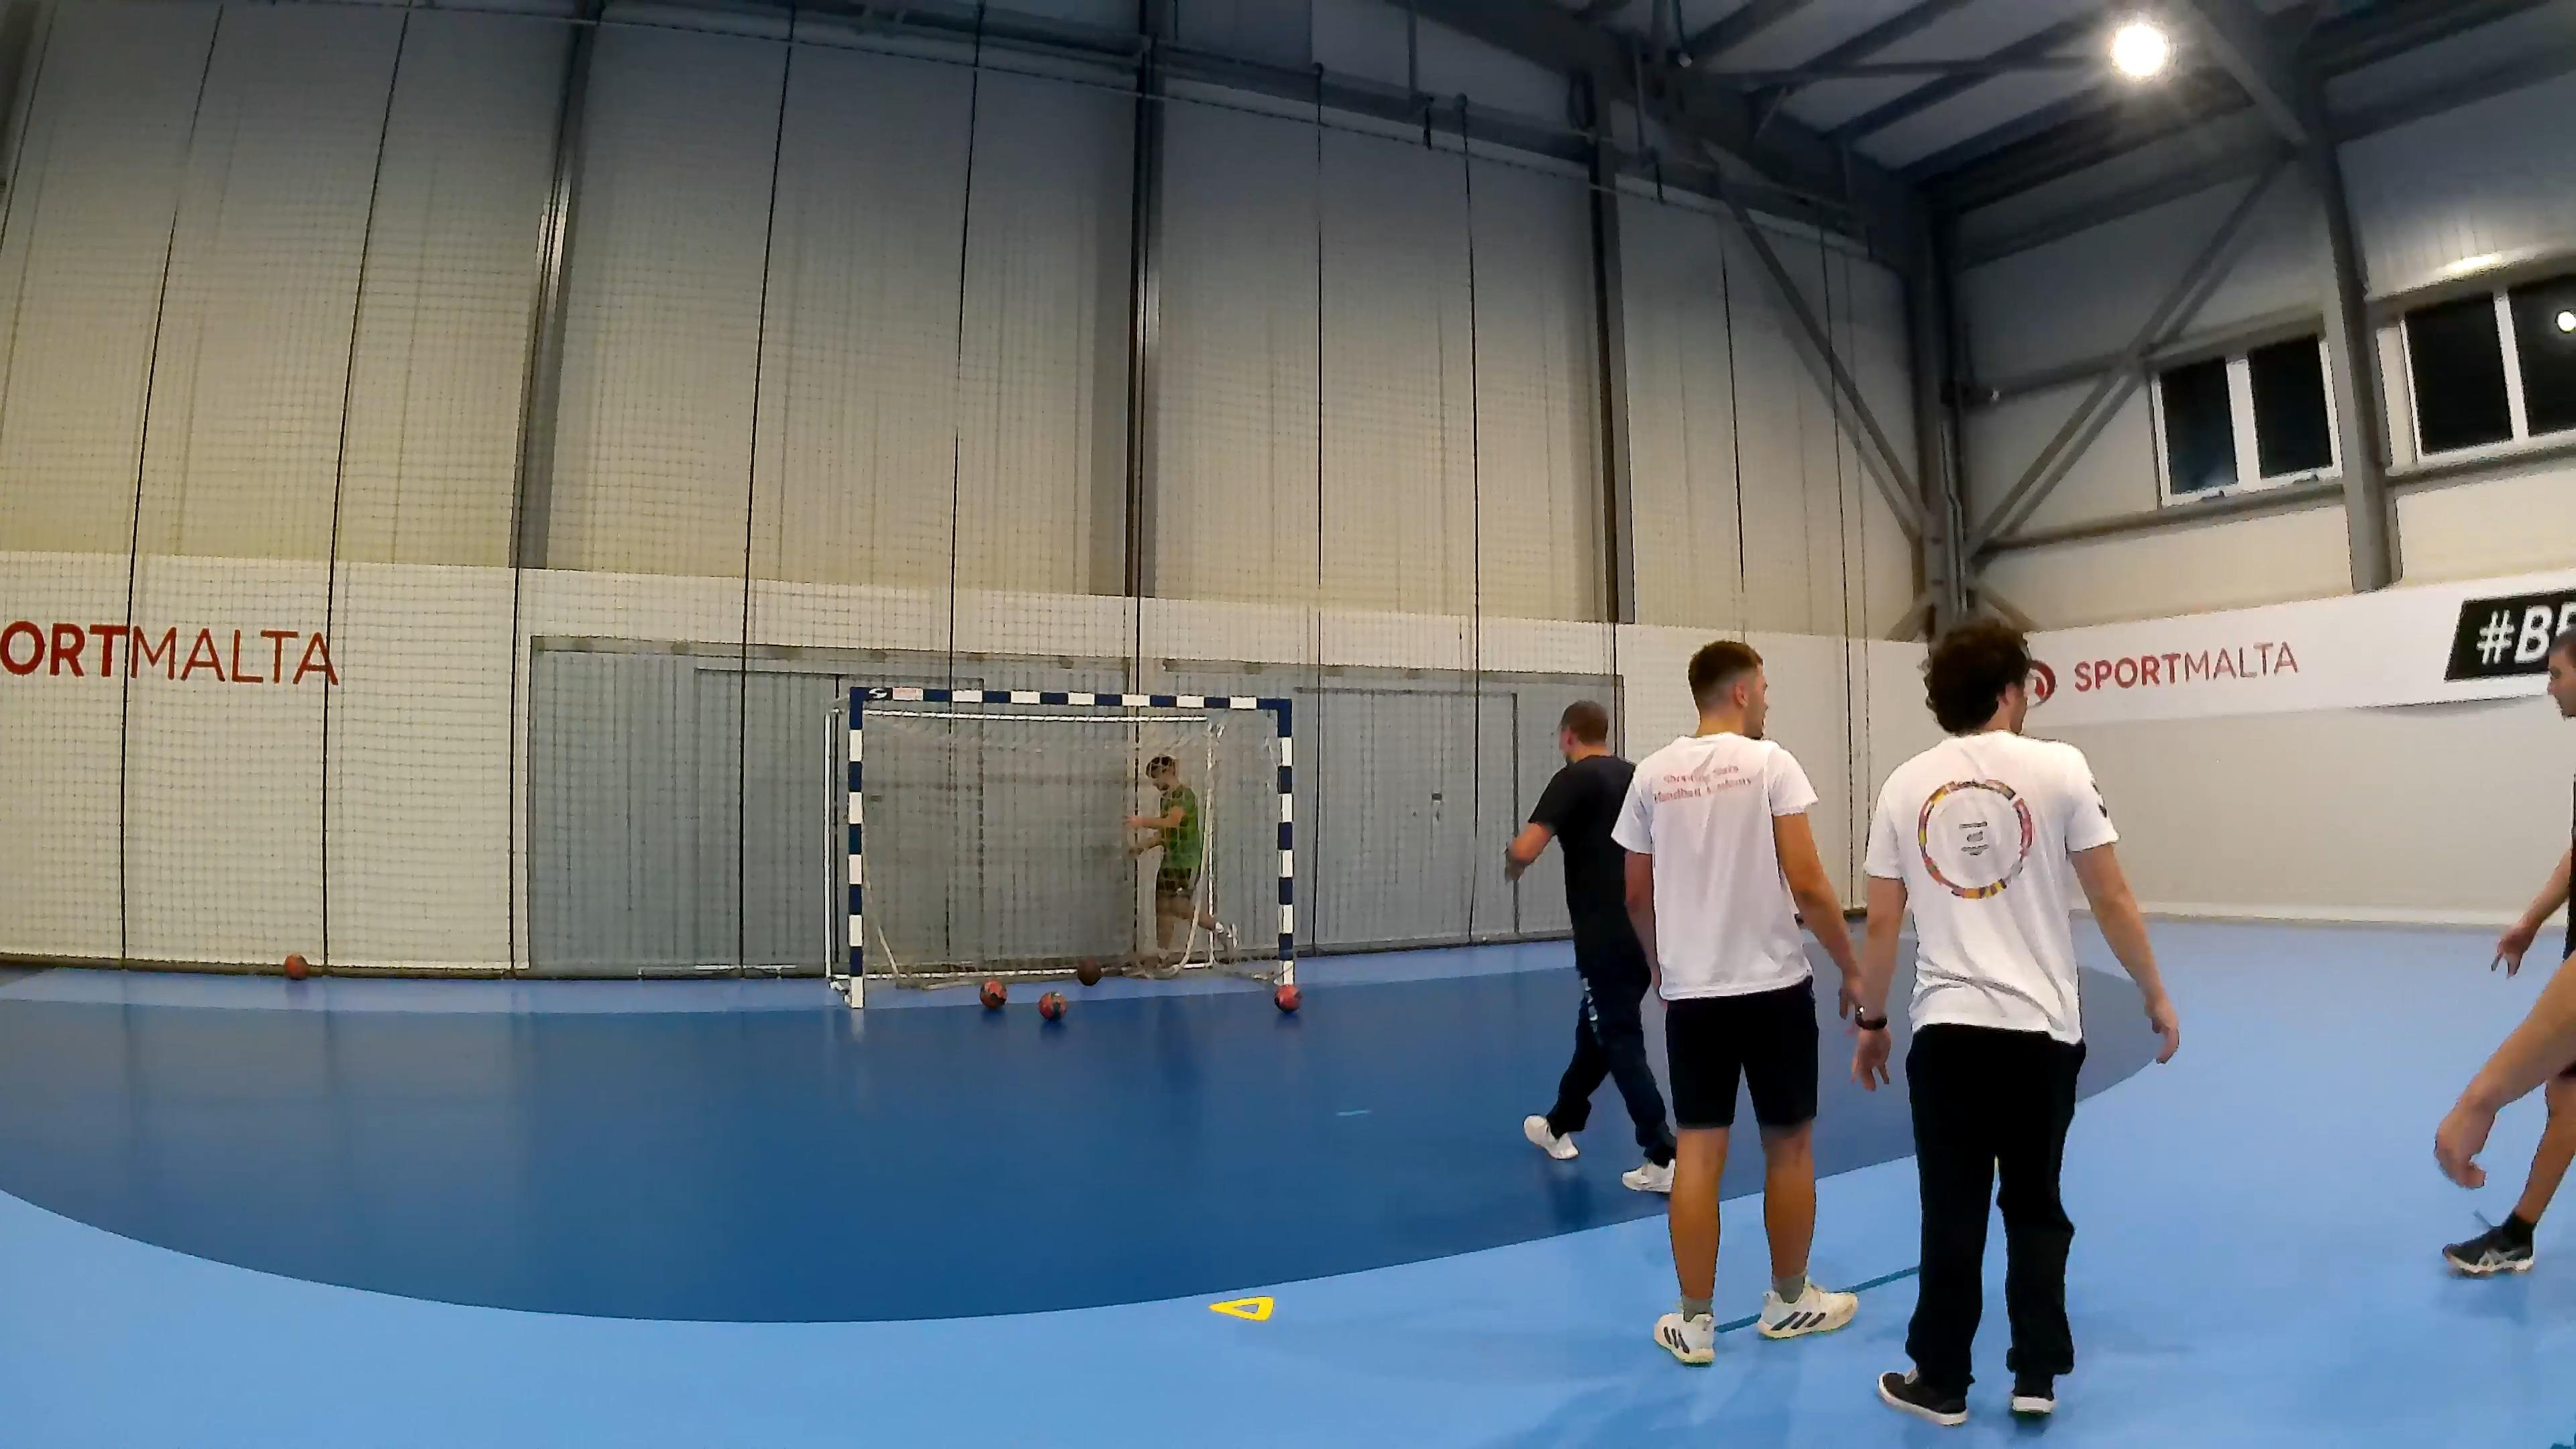handball: (1037, 989, 1065, 1019), (978, 978, 1005, 1008), (1274, 982, 1300, 1010), (1074, 957, 1100, 985), (283, 952, 308, 978)
